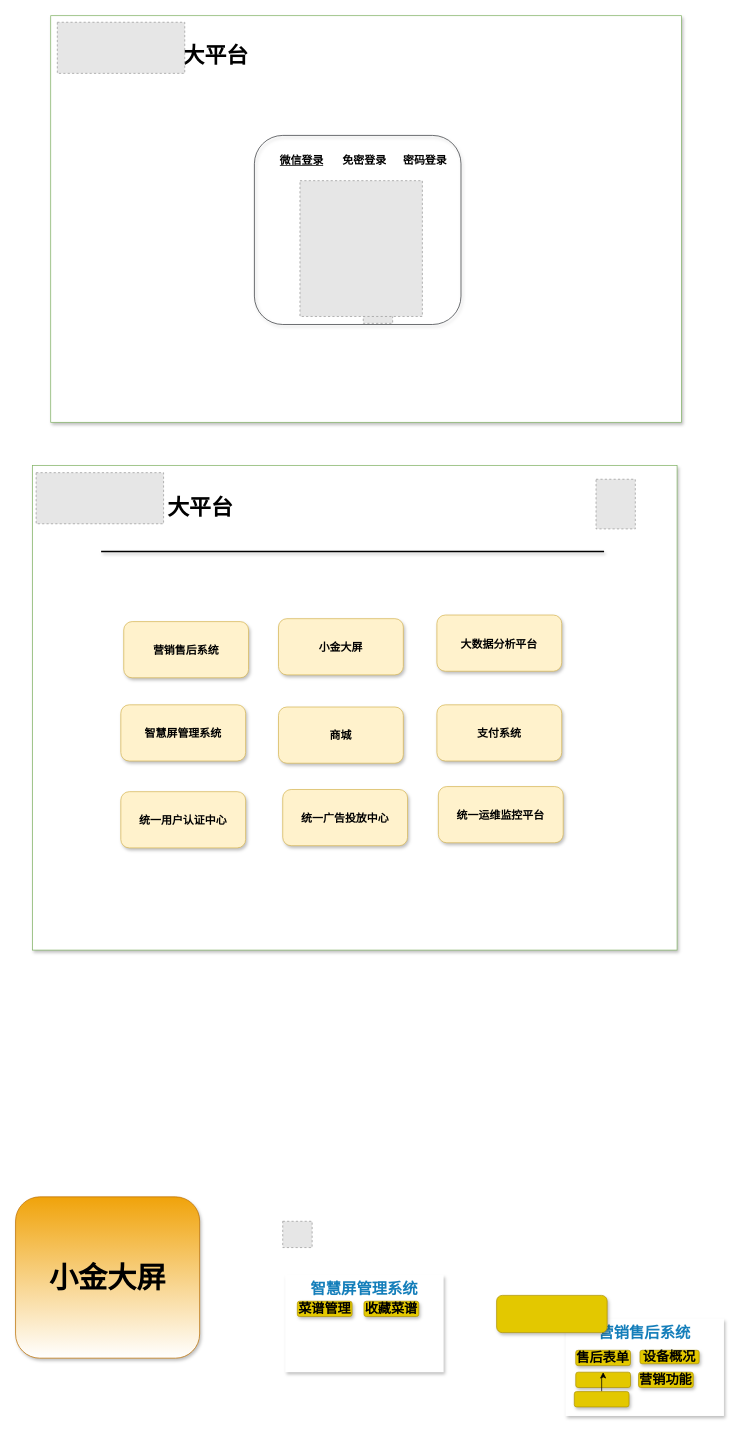
The diagram is 741 pixels wide and 1434 high, and some of its shapes have lost their labels. Grey dashed boxes stand in for pictures. The centre of each missing label's shape, as x and y in pixels:
"增值服务" belongs at point (602, 1400).
"消息网关" belongs at point (552, 1315).
"用户概况" belongs at point (603, 1381).
